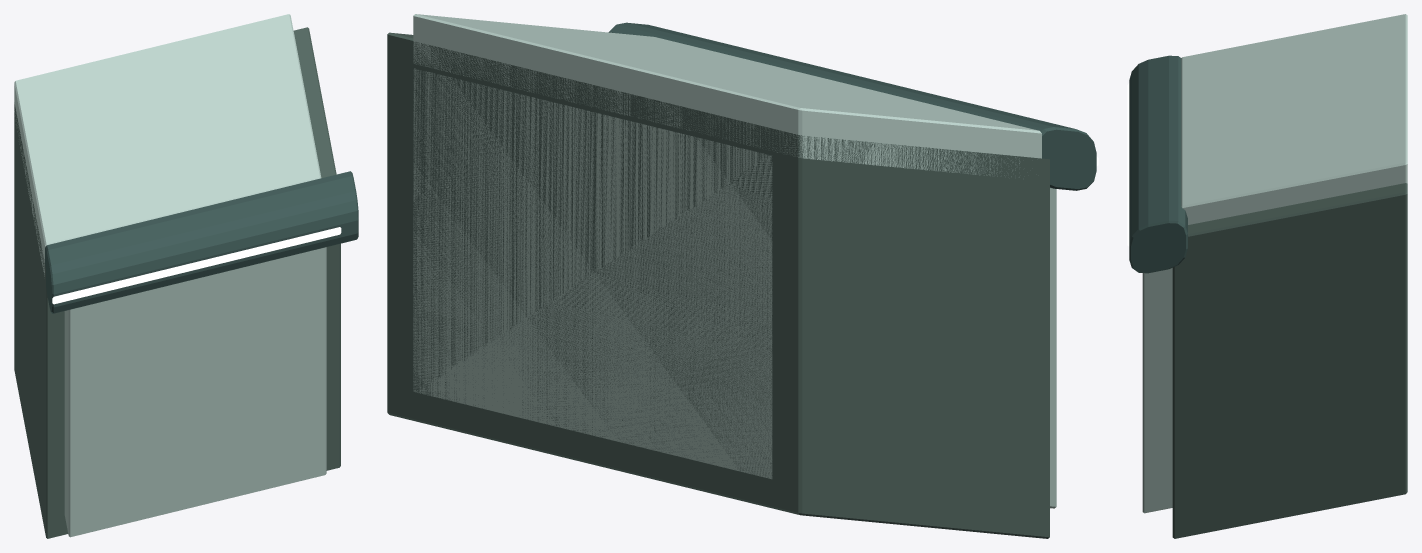
File: Terrain_TopRun1R.gltf
3 views of the same model, side by side, from view 1: azimuth 30°, elevation 25°; view 2: azimuth 150°, elevation 25°; view 3: azimuth 270°, elevation 25° (orthographic). The views are drawn at different scales.
Parts seen in each view (by area): view 1: Terrain_TopRun1R_baked; view 2: Terrain_TopRun1R_baked; view 3: Terrain_TopRun1R_baked.
Part boxes in pixels (left/top/right/bottom): Terrain_TopRun1R_baked: left=14, top=14, right=358, bottom=538; Terrain_TopRun1R_baked: left=387, top=14, right=1098, bottom=538; Terrain_TopRun1R_baked: left=1127, top=14, right=1407, bottom=538.
Bounding box in the file's own units: 1.29 × 1.18 × 0.74.
